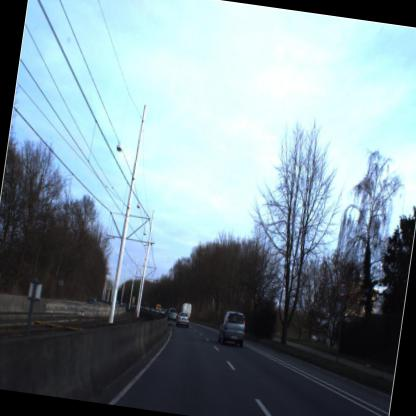prohibitory: (333, 278, 348, 301)
